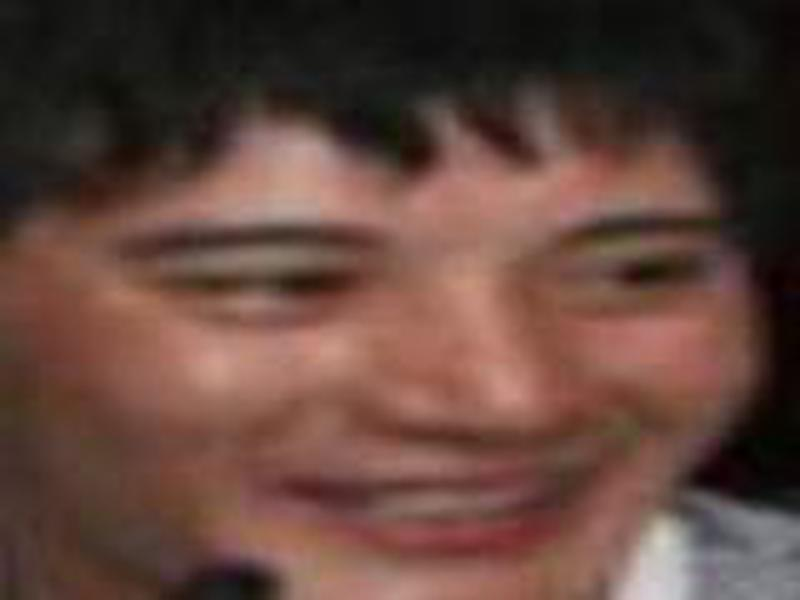without_mask: (17, 89, 765, 599)
